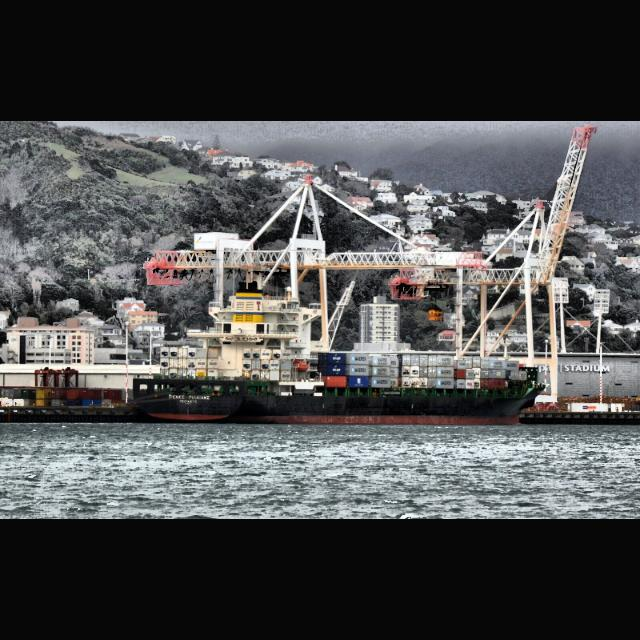container: (132, 280, 546, 424)
